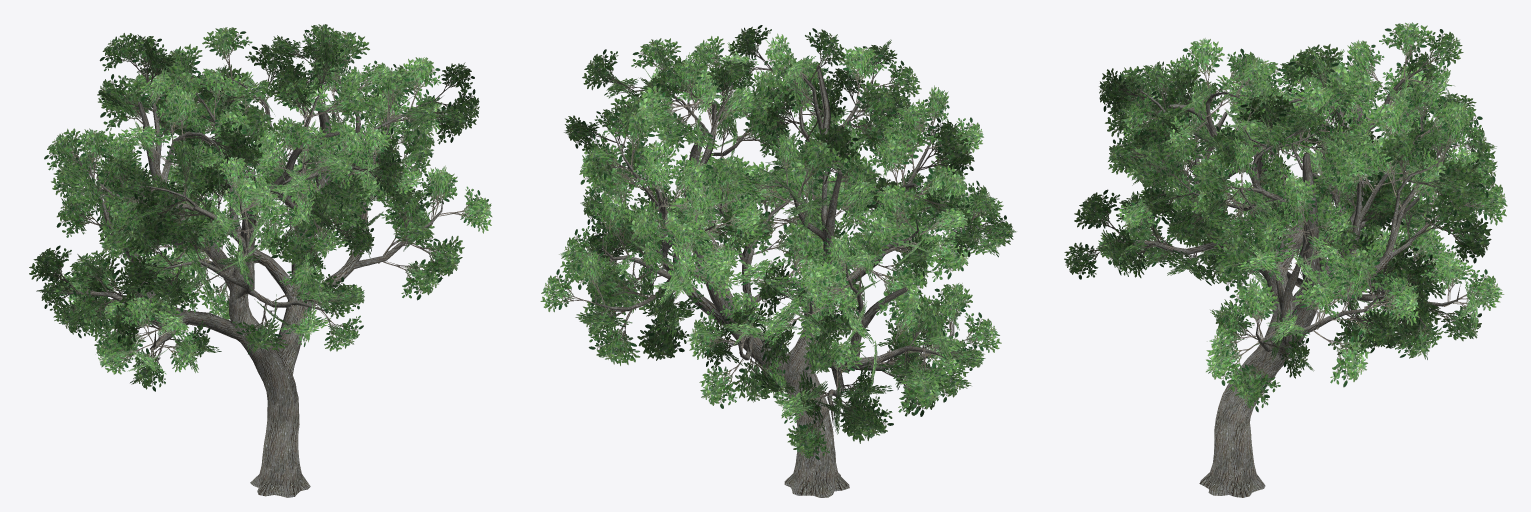
Rendered from AmurCork_Fall_Low.glb.
3 renders of one model, left to right at view 1: azimuth 30°, elevation 25°; view 2: azimuth 150°, elevation 25°; view 3: azimuth 270°, elevation 25°, orthographic. The views are drawn at different scales.
Visible parts, largest first — view 1: AmurCork_Fall_Low; view 2: AmurCork_Fall_Low; view 3: AmurCork_Fall_Low.
Boxes of the visible parts, <box> form: AmurCork_Fall_Low: <box>29,24,492,497</box>; AmurCork_Fall_Low: <box>540,25,1016,497</box>; AmurCork_Fall_Low: <box>1064,22,1507,497</box>.
Size of the model in its own units: 2.39 by 2.37 by 2.11.
Materials: 2 (2 with a texture image).
